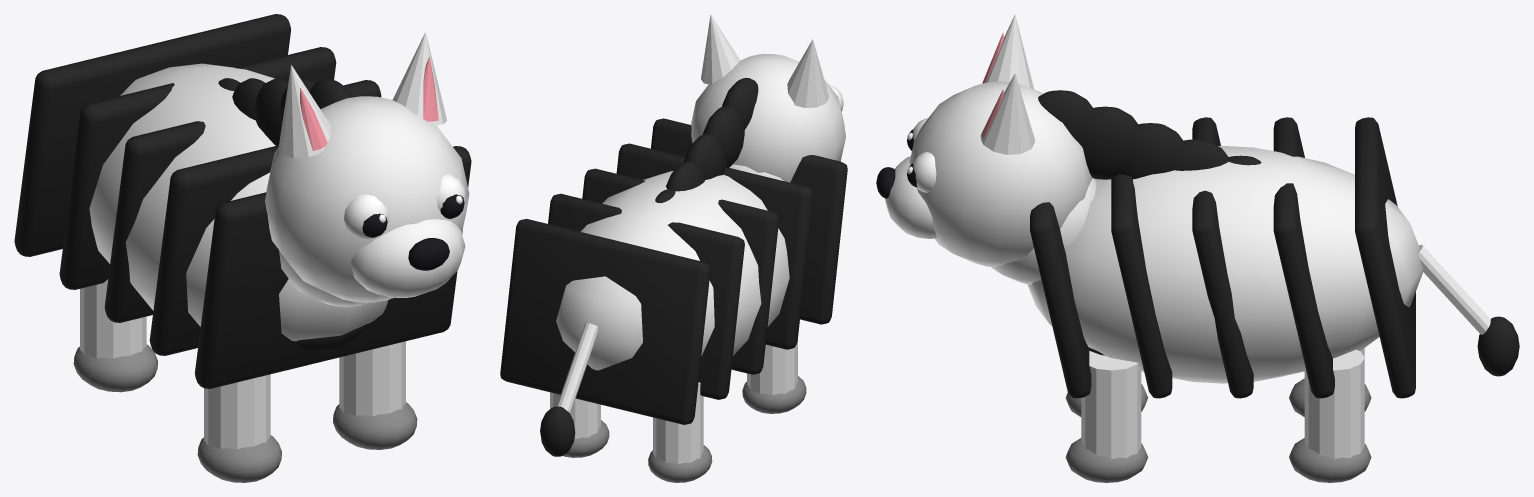
3 renders of one model, left to right at view 1: azimuth 30°, elevation 25°; view 2: azimuth 150°, elevation 25°; view 3: azimuth 270°, elevation 25°, orthographic. The views are drawn at different scales.
Visible parts, largest first — view 1: Zebra; view 2: Zebra; view 3: Zebra.
Part boxes in pixels (x1,y1,x2,y2): Zebra: (14,14,471,482); Zebra: (500,14,847,482); Zebra: (876,14,1519,482).
Bounding box in the file's own units: 1.73 × 2.97 × 4.28.
Materials: 1 (1 with a texture image).
